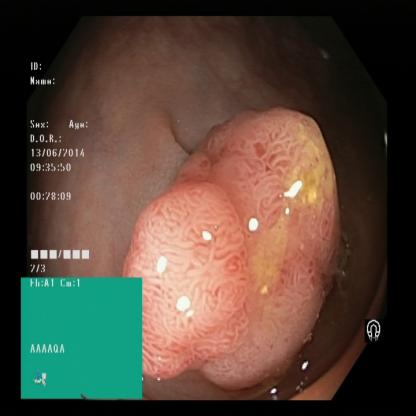Labels: (24, 57, 99, 278), (22, 274, 144, 400), (359, 313, 388, 344)
Polyps: (227, 112, 344, 332), (136, 204, 250, 370)
